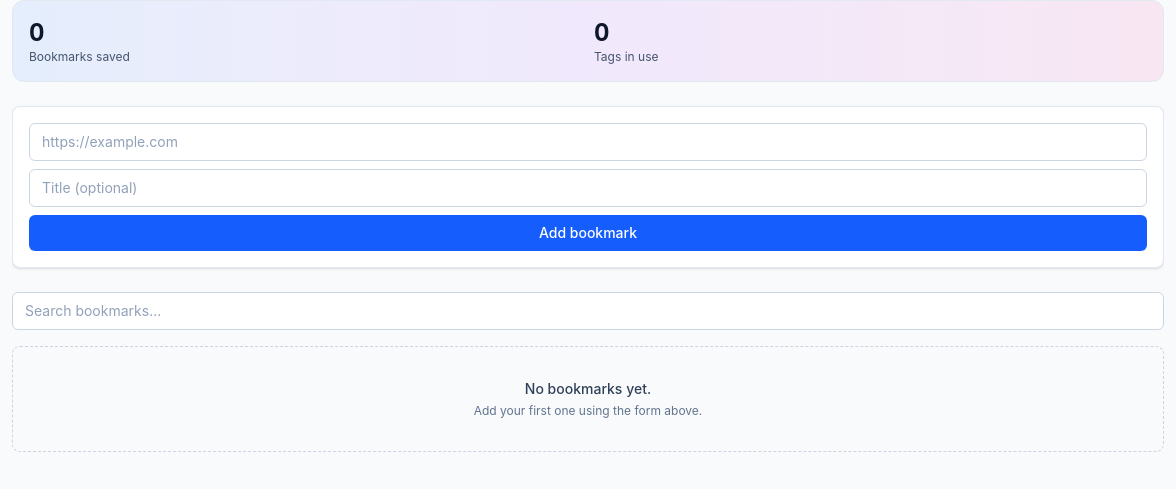
Test case: BookmarksList › shows a validation error when the URL is not a valid URL
Check: the text "No bookmarks yet." is shown, box x1=525 y1=380 x2=651 y2=397
Type "not a url" into the field with placeholder "https://example.com" at [588, 142], box x1=29 y1=123 x2=1147 y2=161
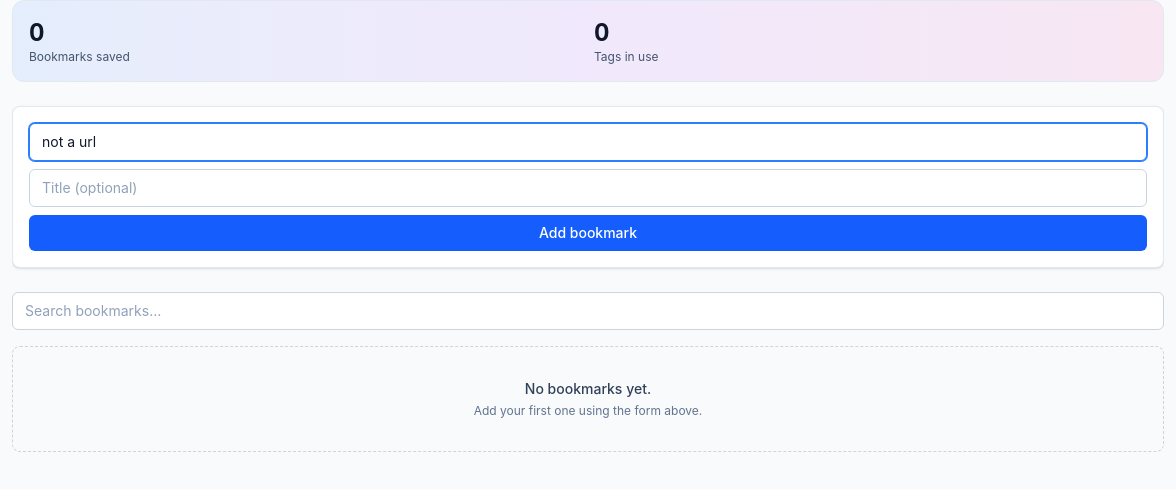
Click the button "Add bookmark" at [588, 233], box x1=29 y1=215 x2=1147 y2=251
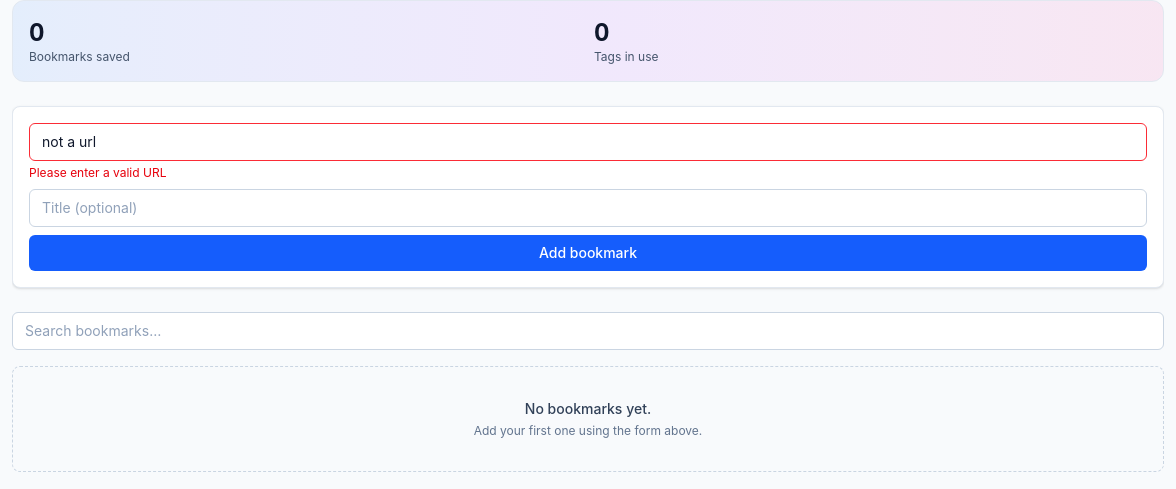
Check: the text "Please enter a valid URL" is shown, box x1=29 y1=165 x2=166 y2=180
